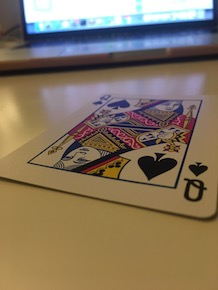QueenOfSpades: (1, 87, 218, 226)
